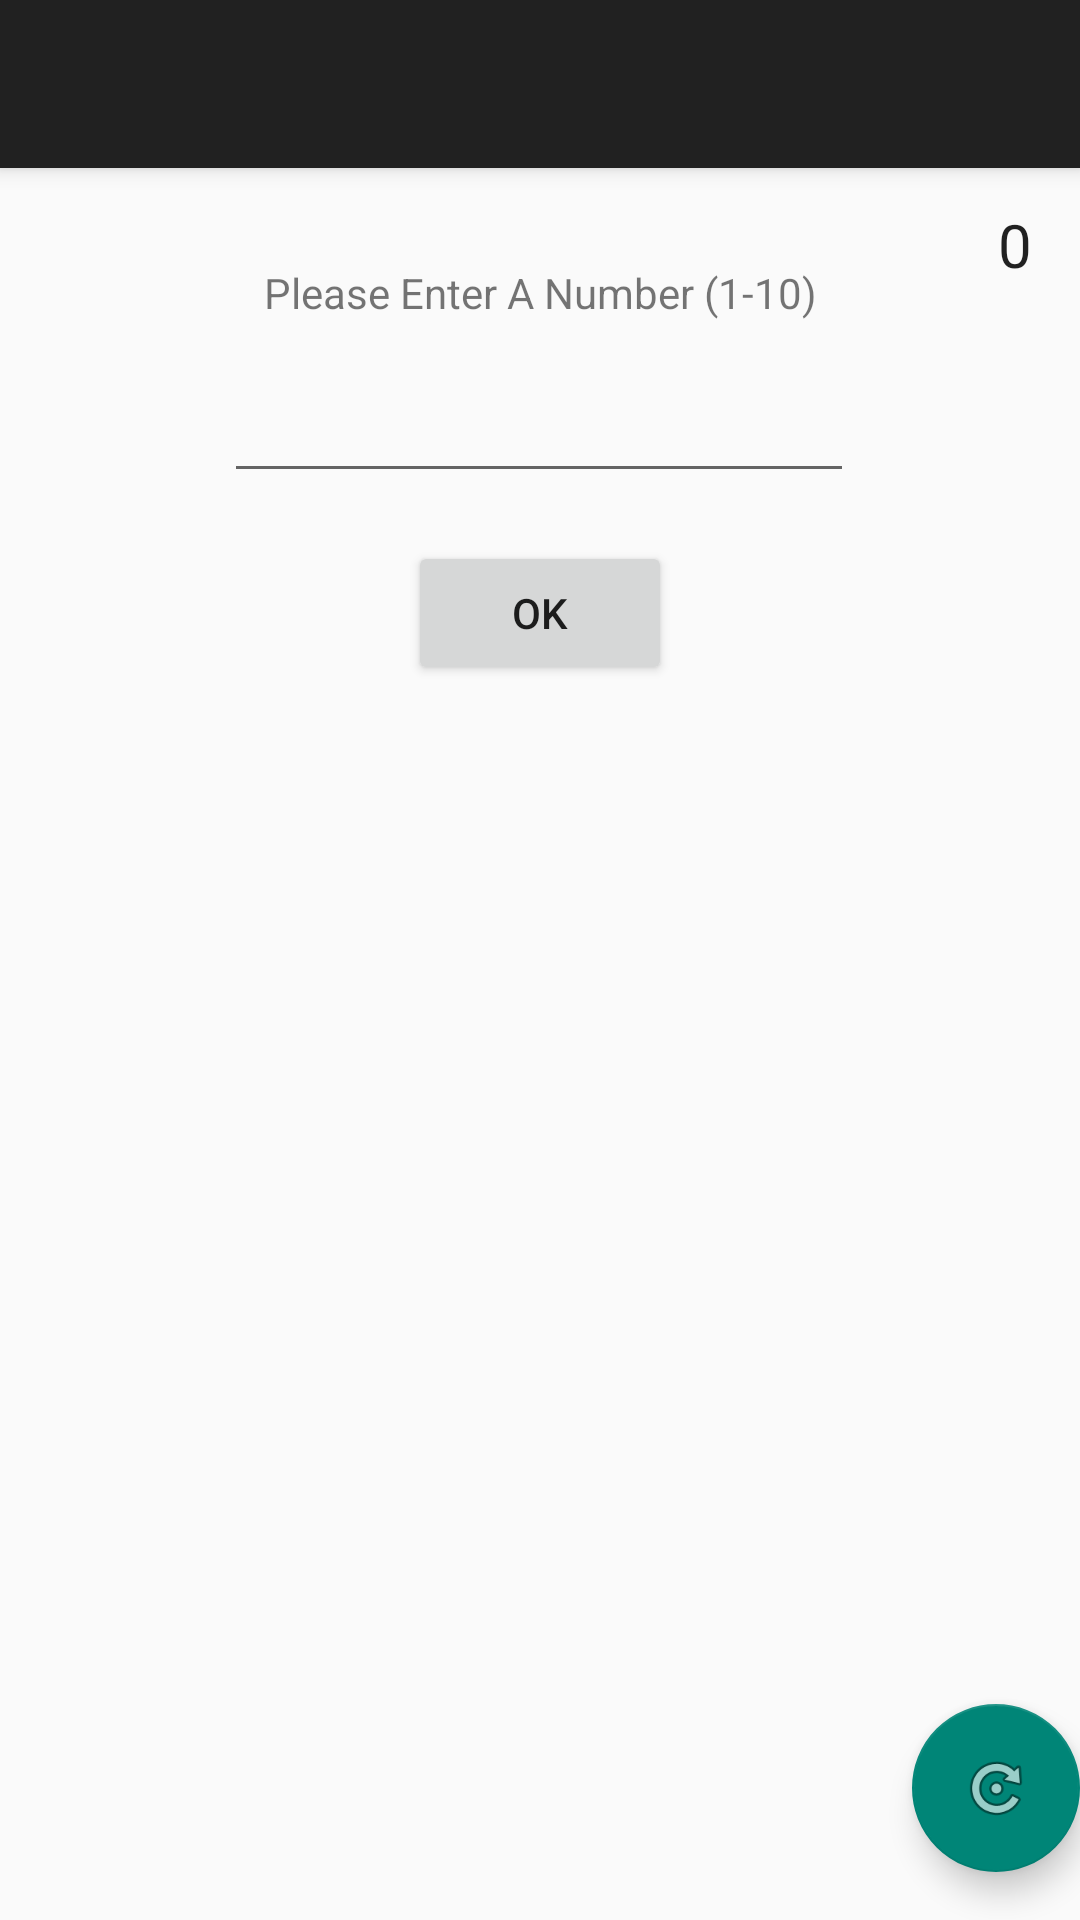

Locate icon controls on the screen. Image size 1080 × 1920, boxes as {"x1": x1, "y1": y1, "x2": x2, "y2": y2}.
rotate: {"x1": 912, "y1": 1704, "x2": 1080, "y2": 1872}
